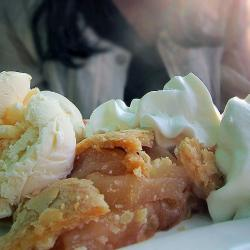apple_pie: (37, 133, 227, 249)
